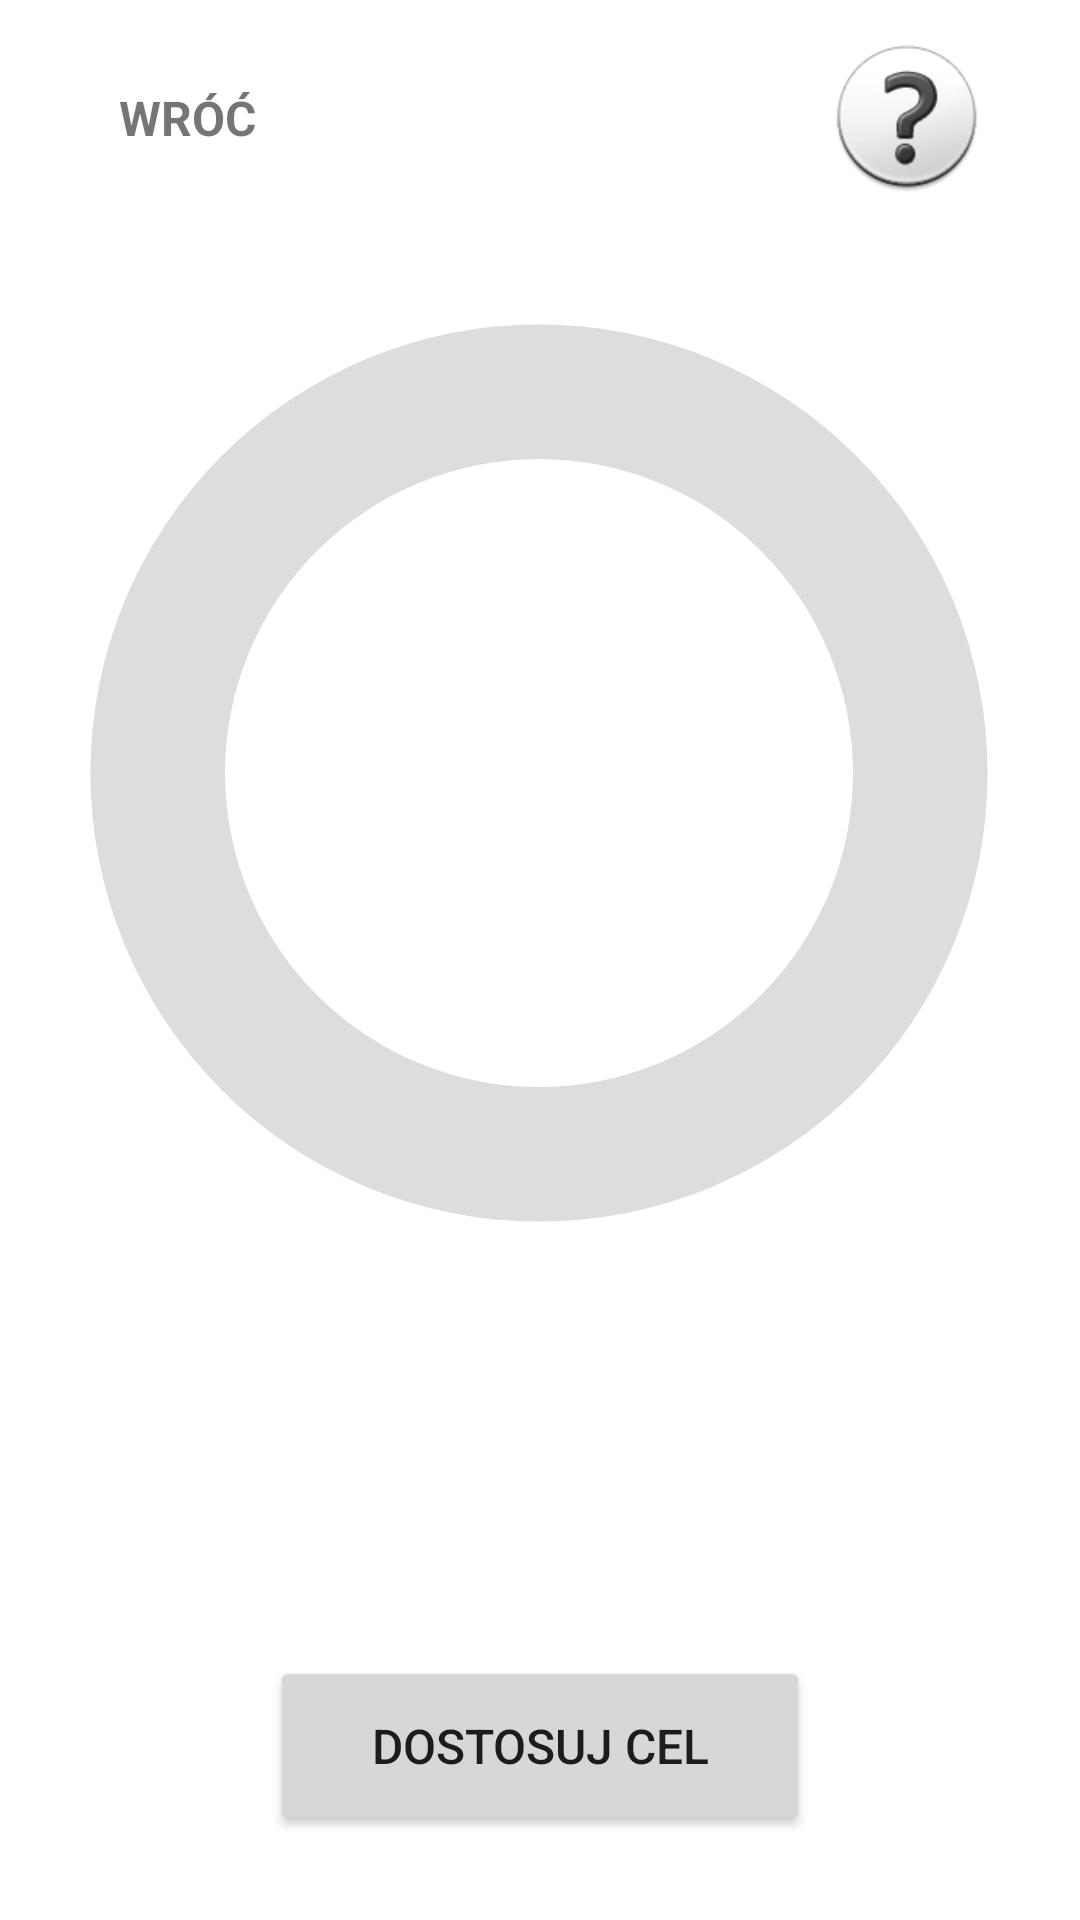

Screen size 1080px x 1920px. Icon name, then its box in pixels as (x1, y1, x2, y2):
questionmark: (837, 45, 977, 190)
